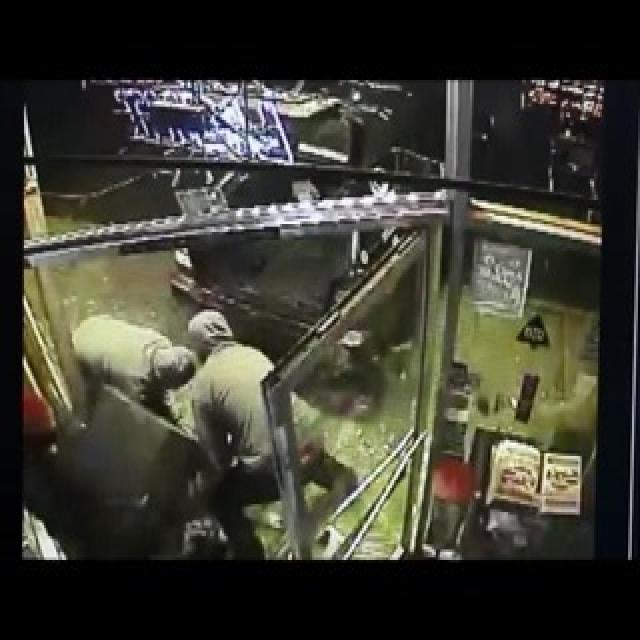thief: (85, 243, 284, 461)
